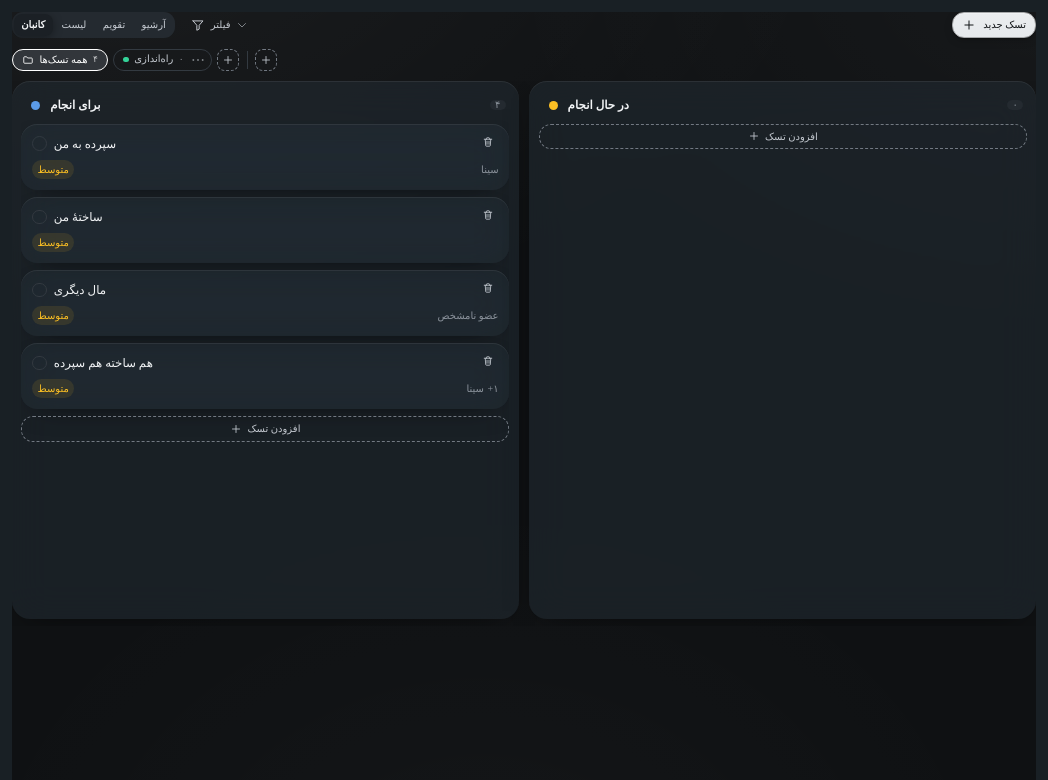
TaskBoard › 'just mine' keeps what is ASSIGNED to me — a card I made for somebody else is not mine (2026-09-19)
Expected: the text "مال دیگری" is shown, [54,283,106,297]
Click the button "فیلتر": coordinates (220, 25) [182,12,257,38]
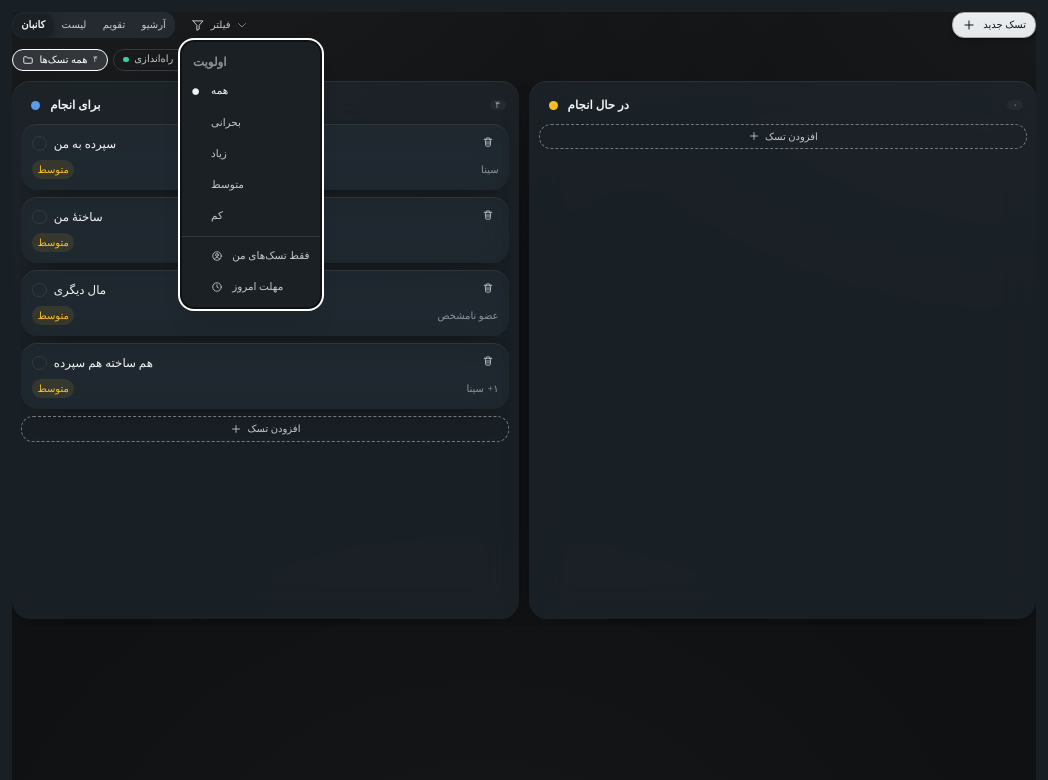
Click the menu item "فقط تسک‌های من": coordinates (260, 256) [211,250,310,262]
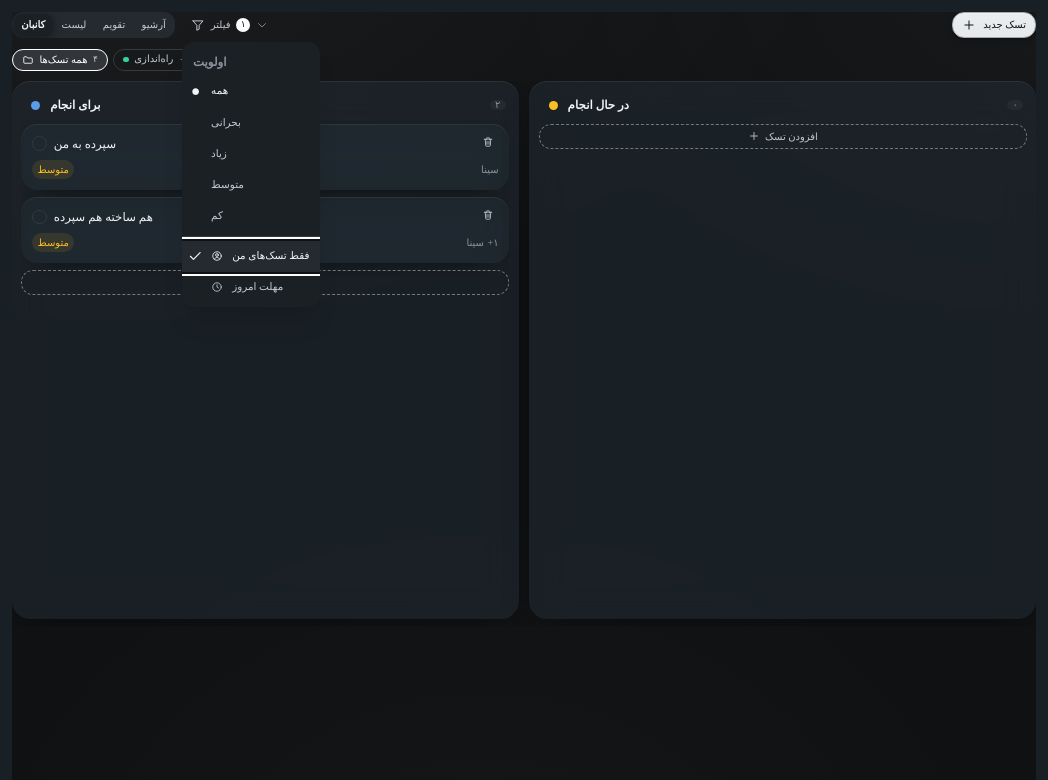
Expected: the text "سپرده به من" is shown, [54,136,116,150]
Result: the button "مال دیگری" is gone
Result: the button "ساختهٔ من" is gone
